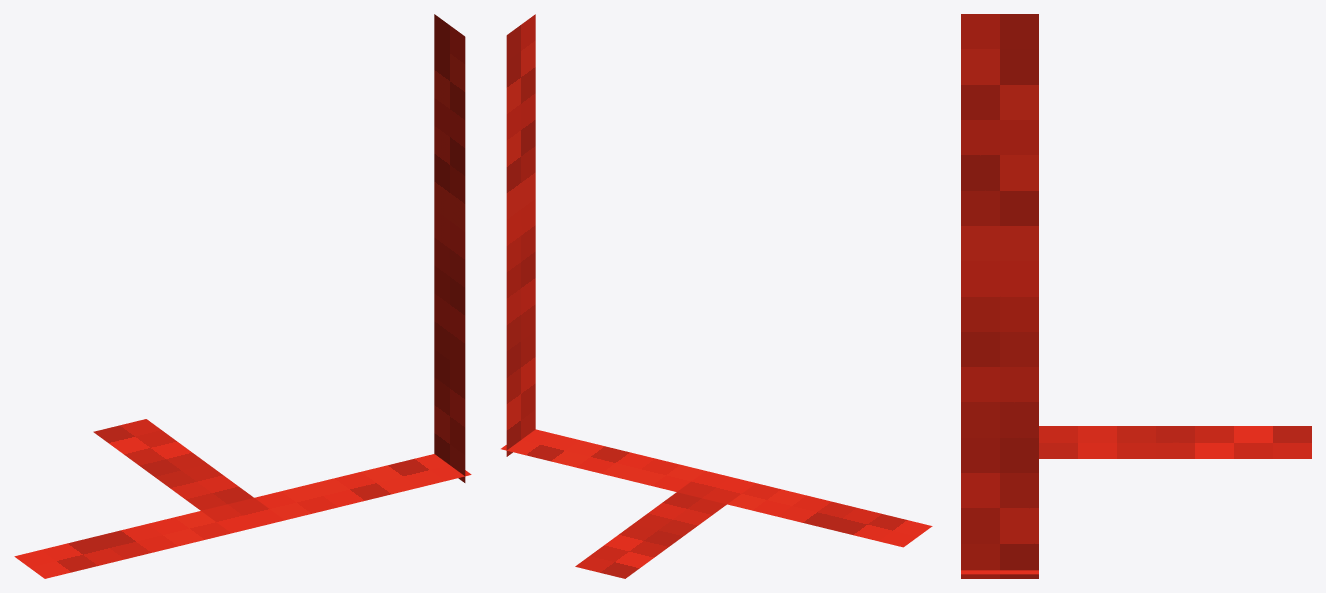
File: dust_on_2101.gltf
3 renders of one model, left to right at view 1: azimuth 30°, elevation 25°; view 2: azimuth 150°, elevation 25°; view 3: azimuth 270°, elevation 25°, orthographic. The views are drawn at different scales.
Parts seen in each view (by area): view 1: dust_on_2101; view 2: dust_on_2101; view 3: dust_on_2101.
Part boxes in pixels (x1,y1,x2,y2): dust_on_2101: (14, 14, 471, 578); dust_on_2101: (501, 14, 932, 578); dust_on_2101: (961, 14, 1311, 578).
Size of the model in its own units: 1 by 1 by 0.5625.
Materials: 1 (1 with a texture image).
